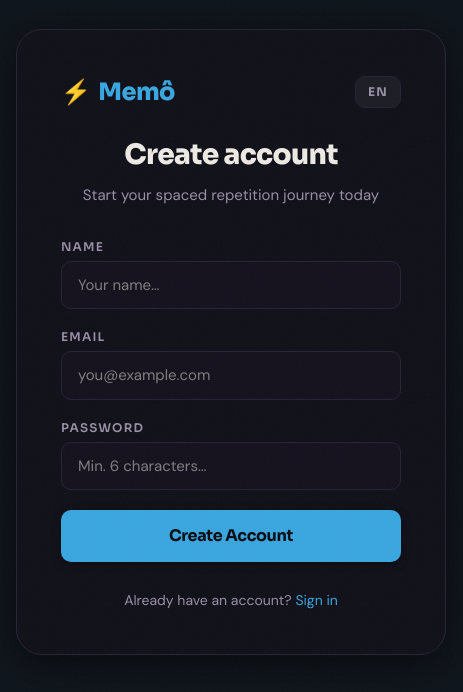
it: RegisterPage › shows minLength validation error for short password
Type "John" into the field labelled "Name". click: (231, 285)
box: [61, 260, 401, 309]
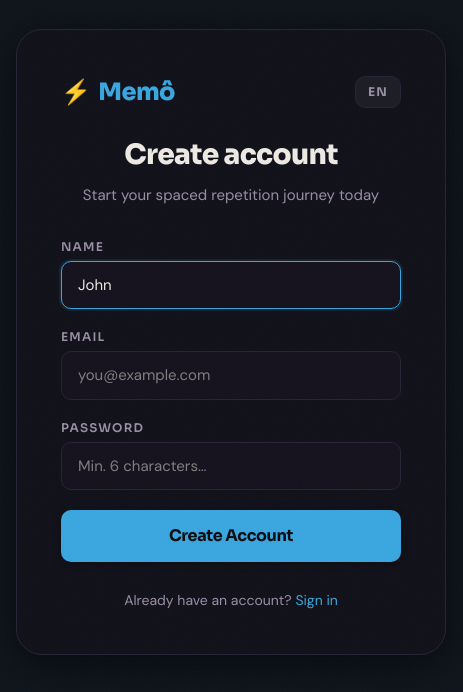
Type "john@example.com" into the field labelled "Email". click: (231, 375)
box: [61, 351, 401, 400]
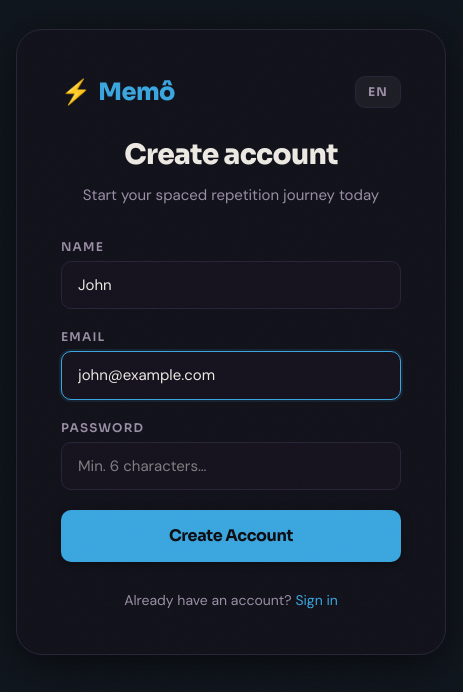
Type "abc" into the password field labelled "Password". click: (231, 466)
box: [61, 442, 401, 490]
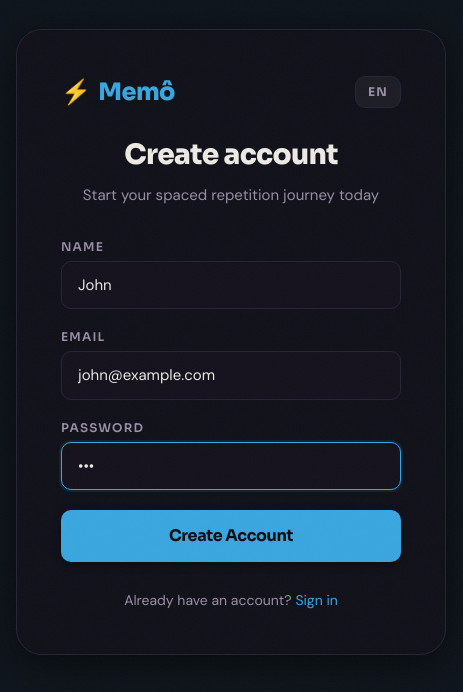
Click the button "Create Account". click: (231, 536)
box: [61, 510, 401, 562]
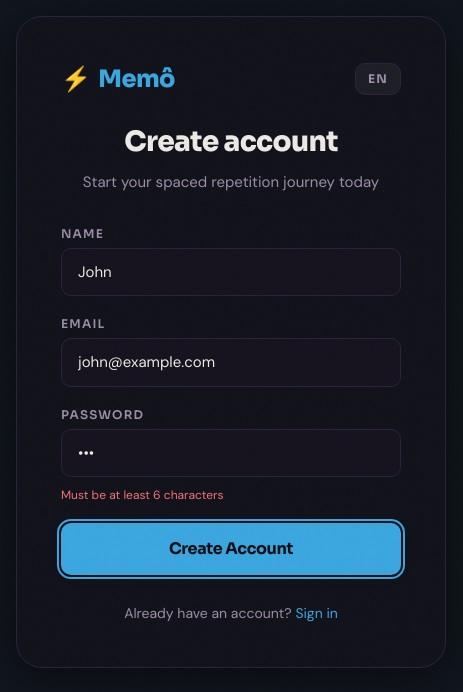
expect the text "Must be at least 6 characters" is shown: met, box [61, 487, 224, 503]
